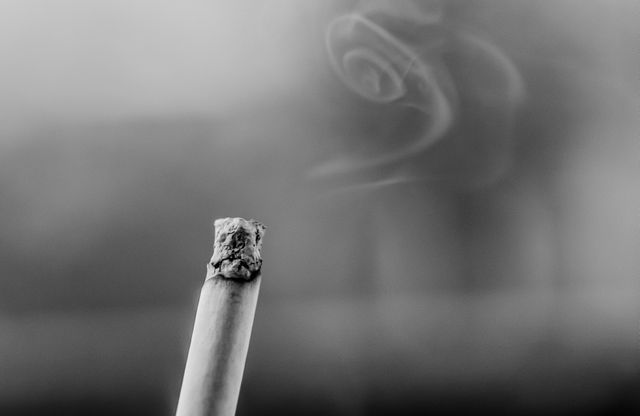cigarette: (171, 204, 279, 414)
